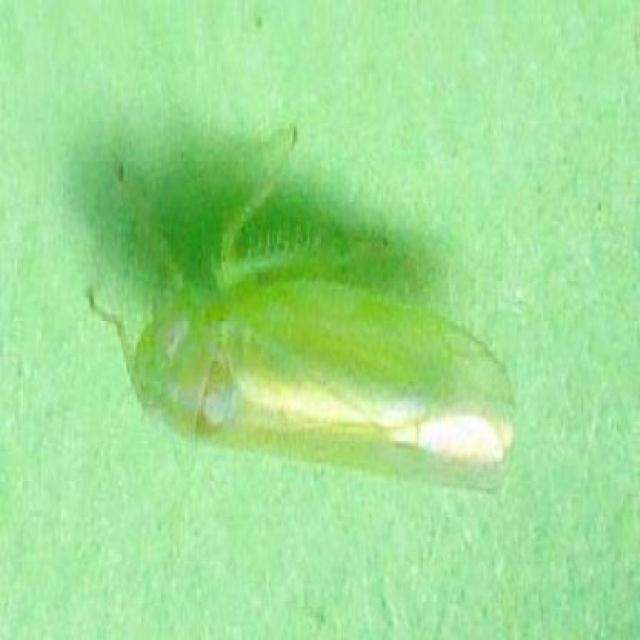green-leafhopper: (123, 242, 517, 482)
